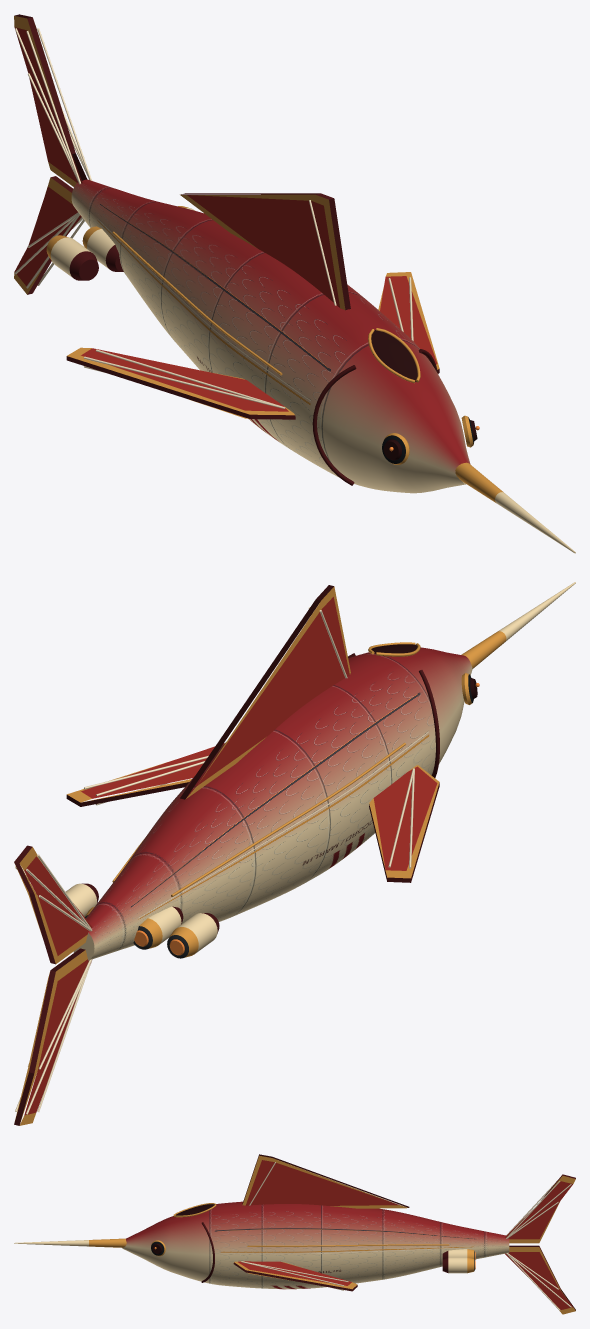
The picture shows the model from 3 angles, top to bottom: view 1: azimuth 30°, elevation 25°; view 2: azimuth 150°, elevation 25°; view 3: azimuth 270°, elevation 25°; orthographic projection. The views are drawn at different scales.
Parts seen in each view (by area): view 1: marlin_hull; view 2: marlin_hull; view 3: marlin_hull.
Boxes of the visible parts, x1,y1,x2,y2 form: marlin_hull: [14, 14, 575, 553]; marlin_hull: [14, 582, 575, 1125]; marlin_hull: [14, 1154, 575, 1314].
Size of the model in its own units: 29.91 by 26.23 by 84.
1 material, 1 textured.
